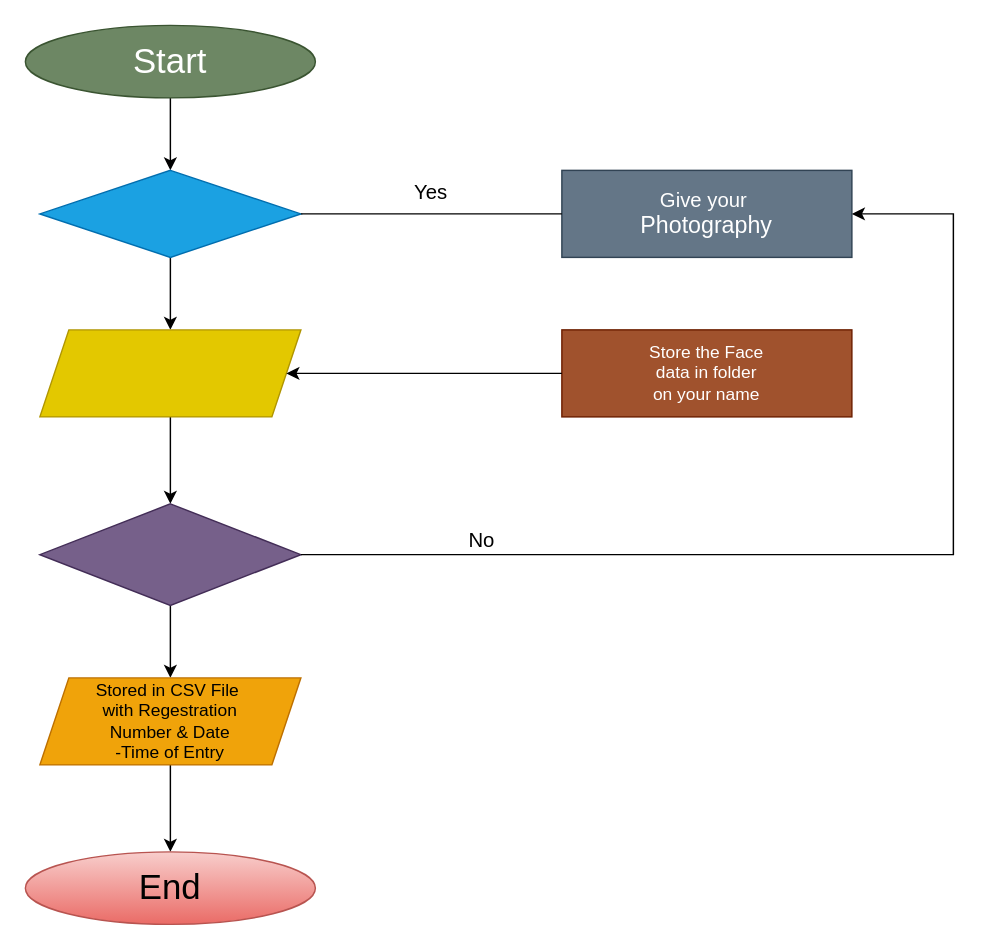
The diagram is 990 pixels wide and 950 high, and some of its shapes have lost their labels. The shapes that lost their labels are listed below. From the top down, each one's centre as x and y in pixels, then its label:
the point at 169,213: New User ?
the point at 169,372: Recognize The Face
the point at 169,553: Face Recognized
